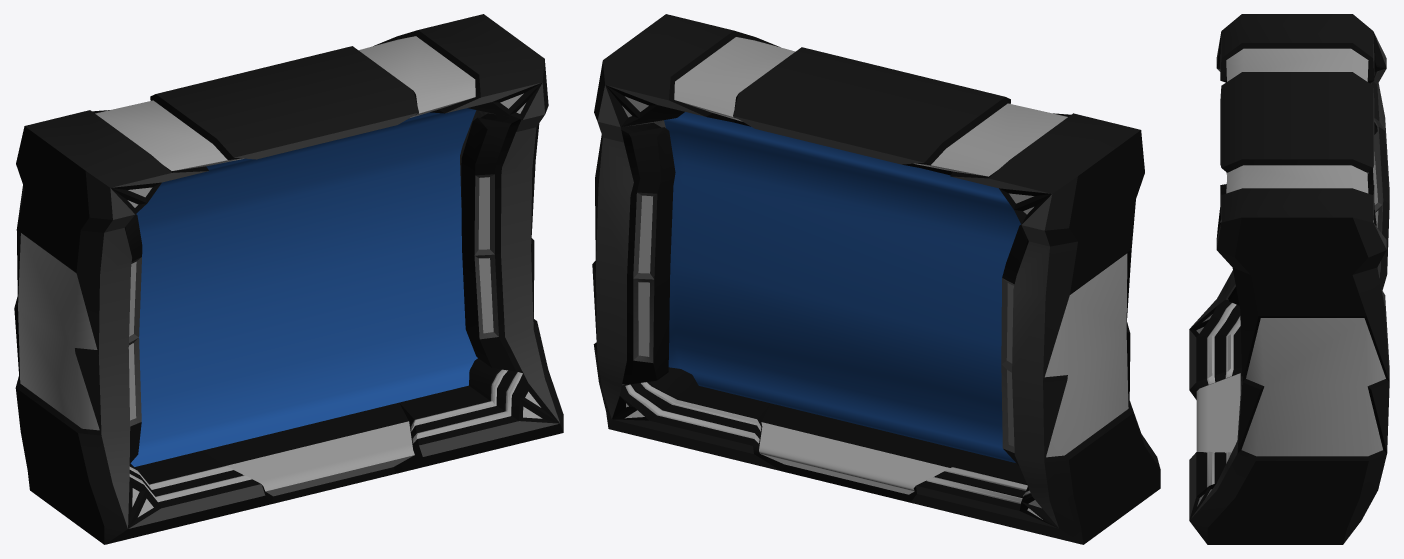
The model's file is Window_Curved.FBX.
3 renders of one model, left to right at view 1: azimuth 30°, elevation 25°; view 2: azimuth 150°, elevation 25°; view 3: azimuth 270°, elevation 25°, orthographic. The views are drawn at different scales.
Parts seen in each view (by area): view 1: Window Curved; view 2: Window Curved; view 3: Window Curved.
Boxes of the visible parts, left/top/right/bottom form: Window Curved: left=14, top=14, right=563, bottom=544; Window Curved: left=592, top=14, right=1160, bottom=544; Window Curved: left=1189, top=14, right=1389, bottom=544.
Size of the model in its own units: 400 by 300 by 166.
